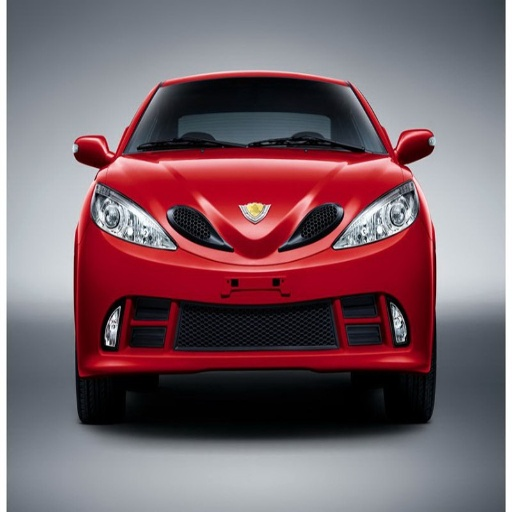front_bumper: (77, 211, 430, 371)
front_right_light: (88, 186, 176, 250)
hood: (100, 148, 409, 238)
left_mirror: (397, 129, 434, 164)
tailgate: (223, 201, 302, 264)
